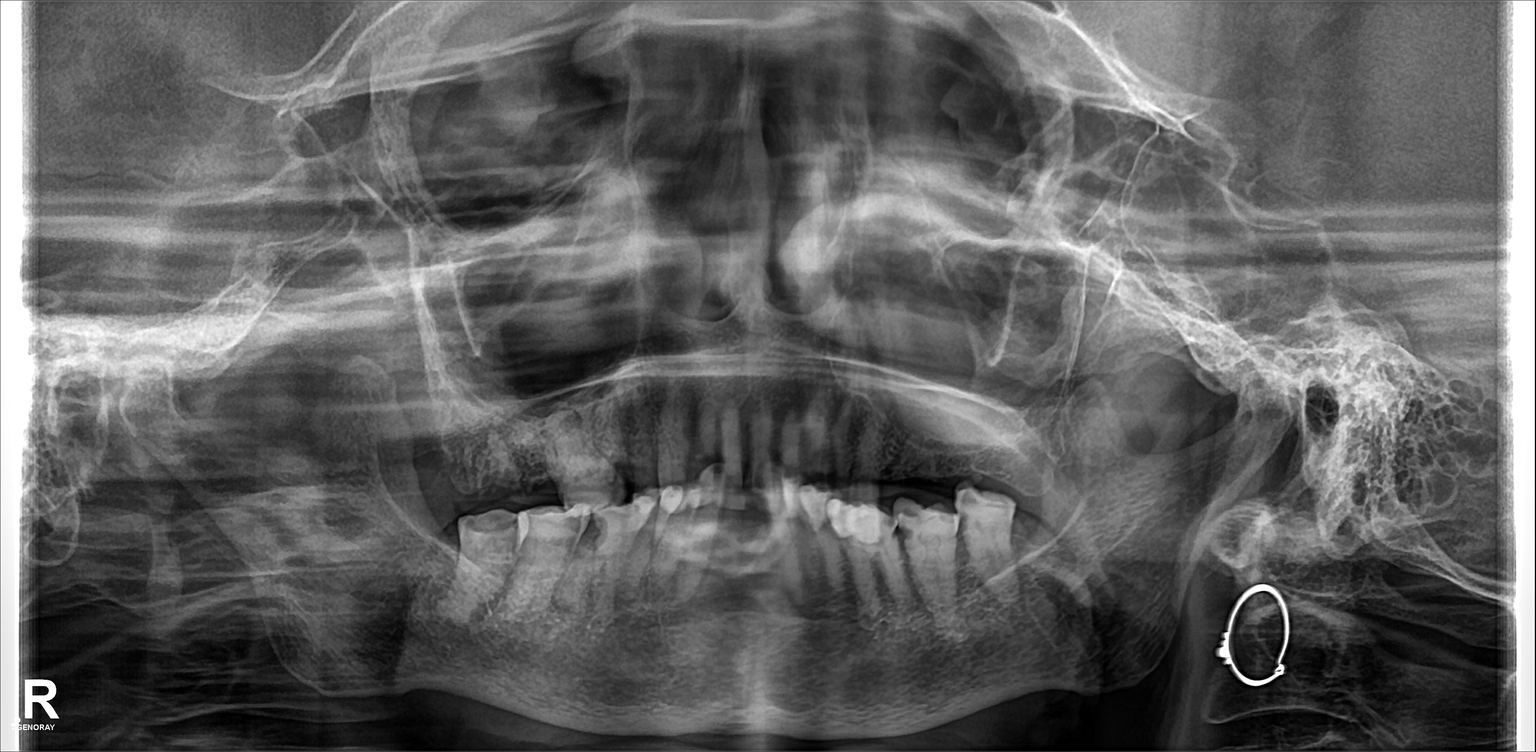Missing Tooth: (456, 432, 499, 506), (499, 430, 542, 495)
Periapical Abnormality: (827, 503, 1028, 614), (453, 516, 661, 611)
